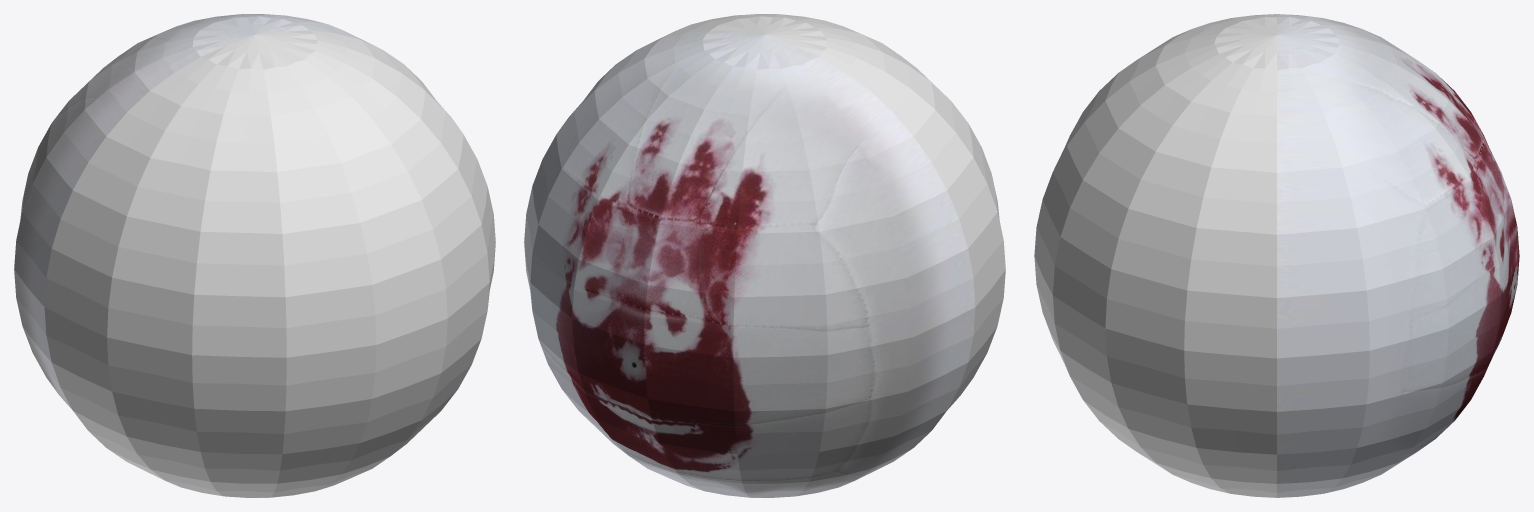
File: Wilson.fbx
3 views of the same model, side by side, from view 1: azimuth 30°, elevation 25°; view 2: azimuth 150°, elevation 25°; view 3: azimuth 270°, elevation 25° (orthographic).
Parts seen in each view (by area): view 1: Sphere.001; view 2: Sphere.001; view 3: Sphere.001.
Part boxes in pixels (x1,y1,x2,y2): Sphere.001: (14,14,495,497); Sphere.001: (524,14,1005,497); Sphere.001: (1034,14,1519,497).
Size of the model in its own units: 0.245 by 0.246 by 0.245.
2 materials, 1 textured.
